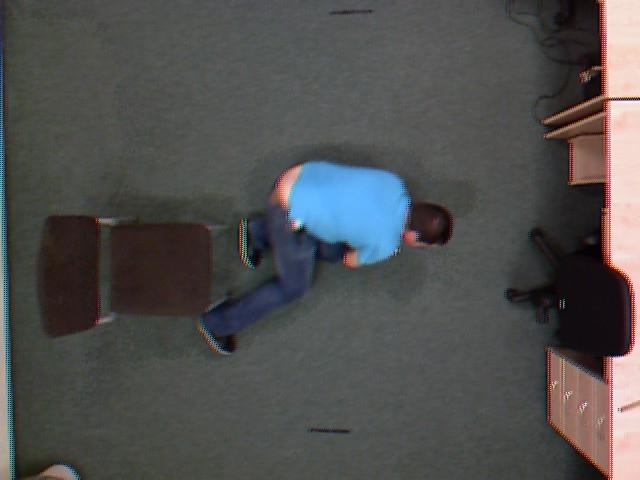fall: (195, 151, 468, 357)
